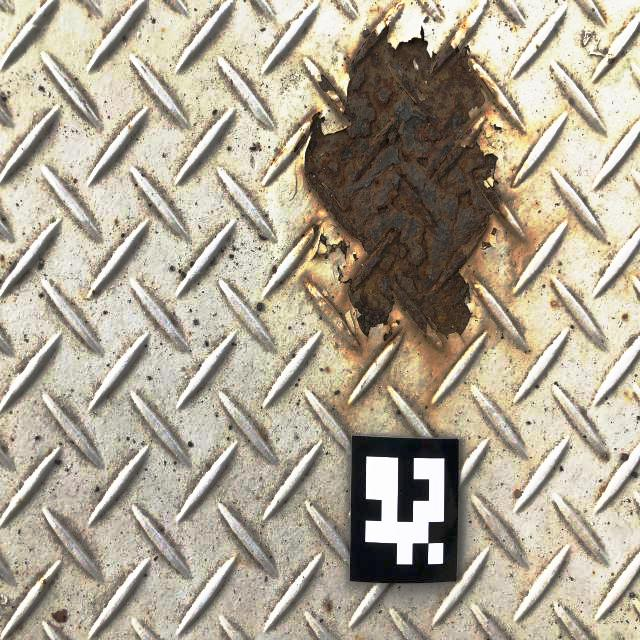Corrosion: (292, 2, 510, 350), (435, 333, 482, 395), (304, 276, 318, 301), (273, 147, 286, 167), (491, 123, 505, 132), (326, 602, 332, 613), (550, 282, 558, 289)
